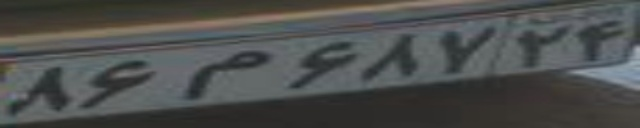2: (513, 26, 569, 68)
4: (576, 19, 626, 61)
6: (82, 60, 158, 109), (284, 41, 358, 89)
7: (435, 25, 498, 76)
8: (4, 65, 76, 115), (362, 35, 419, 81)
mim: (179, 49, 269, 102)
